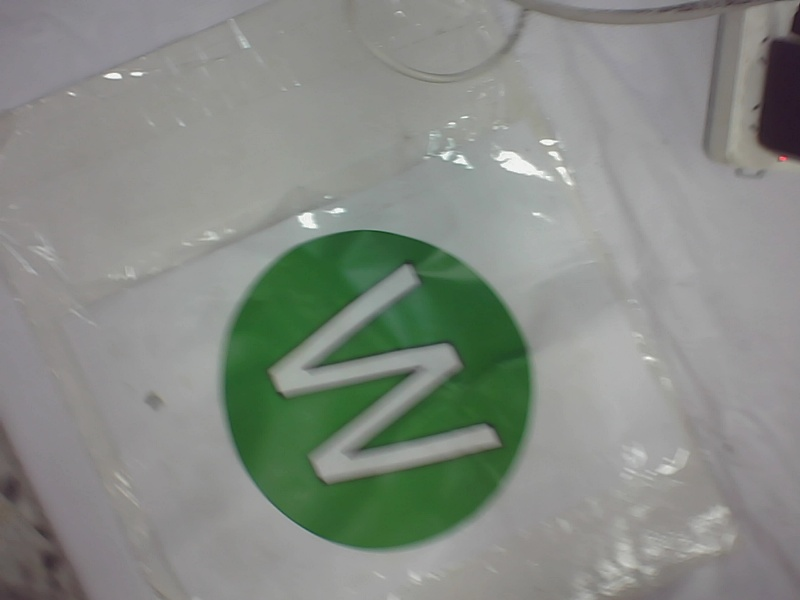areaB: (218, 230, 540, 557)
